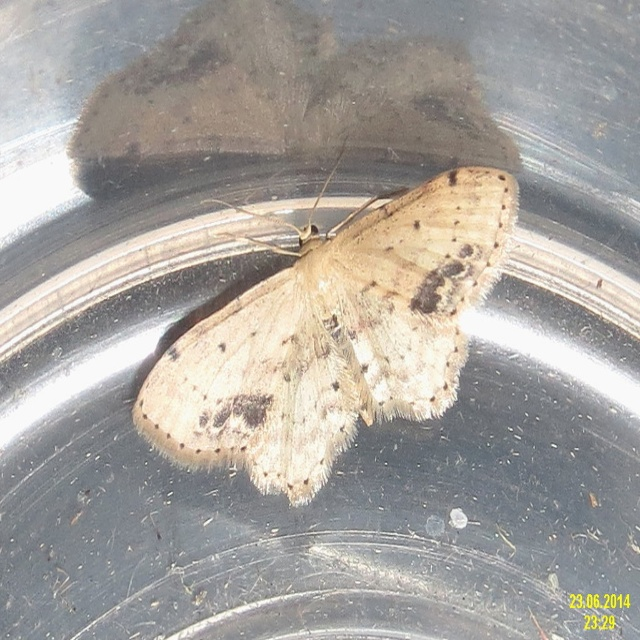Butterfly: (142, 138, 513, 509)
